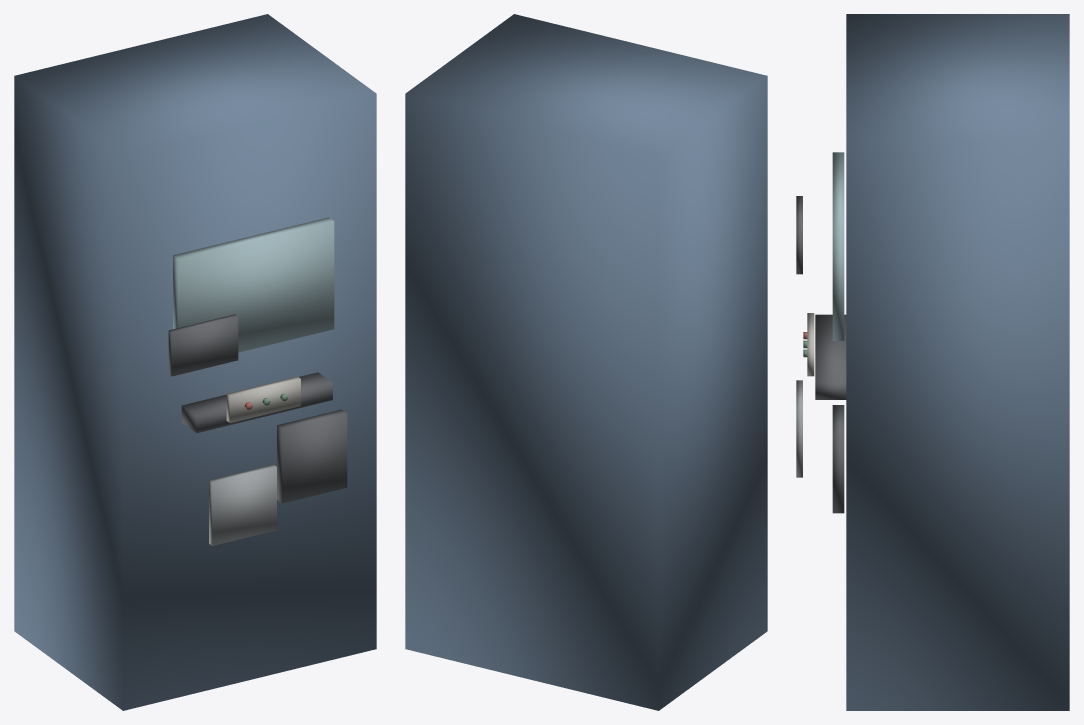
The model's file is atm__weathered.glb.
The picture shows the model from 3 angles, left to right: view 1: azimuth 30°, elevation 25°; view 2: azimuth 150°, elevation 25°; view 3: azimuth 270°, elevation 25°; orthographic projection. The views are drawn at different scales.
Visible parts, largest first — view 1: world; view 2: world; view 3: world.
Boxes of the visible parts, x1,y1,x2,y2 form: world: (14, 14, 376, 710); world: (405, 14, 767, 710); world: (796, 14, 1069, 710).
Size of the model in its own units: 0.78 by 1.63 by 0.7093.
